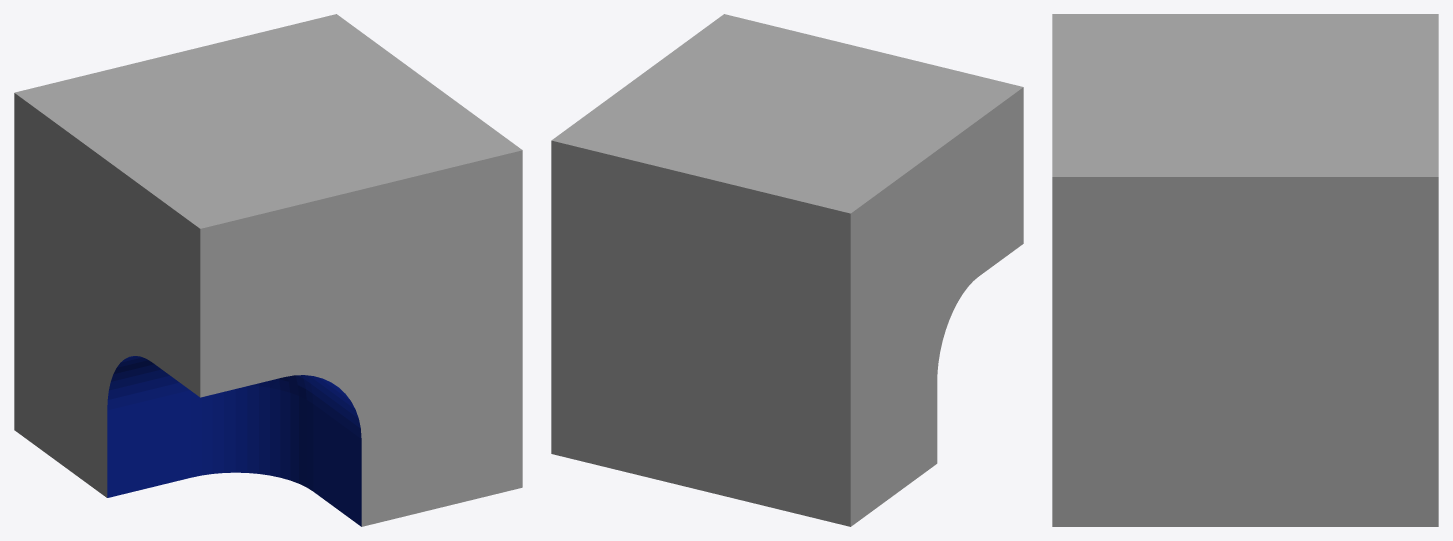
The model's file is case_247.fbx.
3 renders of one model, left to right at view 1: azimuth 30°, elevation 25°; view 2: azimuth 150°, elevation 25°; view 3: azimuth 270°, elevation 25°, orthographic. The views are drawn at different scales.
Visible parts, largest first — view 1: case_247; view 2: case_247; view 3: case_247.
Part boxes in pixels (x1,y1,x2,y2): case_247: [14, 14, 522, 526]; case_247: [551, 14, 1023, 526]; case_247: [1052, 14, 1438, 526].
Size of the model in its own units: 1 by 1 by 1.
